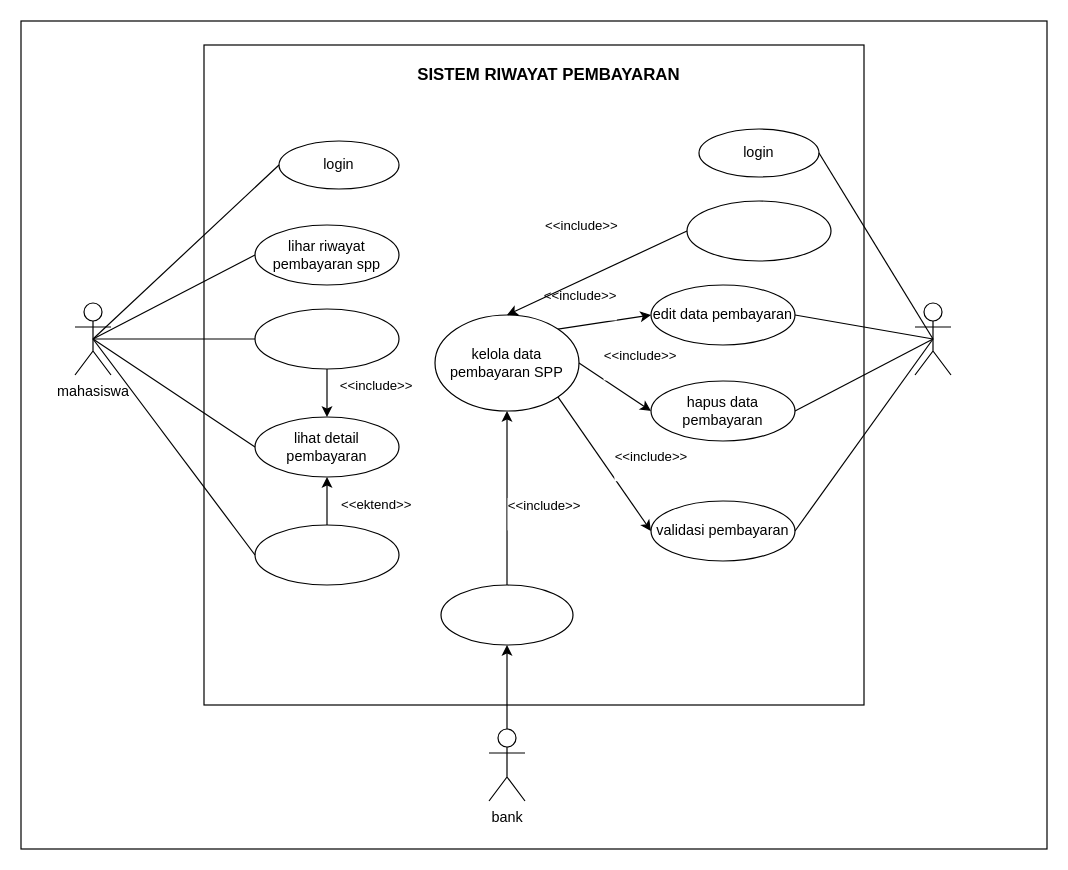
This 1068x870 diagram has some shape labels left out. Each missing label, with the centre of its shape:
"admin /bagian keuangan" belongs at point (932, 338).
"cari riwayat pembayaran" belongs at point (326, 338).
"konfirmasi pembayaran" belongs at point (506, 614).
"tambah data pembayaran" belongs at point (758, 230).
"unduh bukti pembayaran" belongs at point (326, 554).
